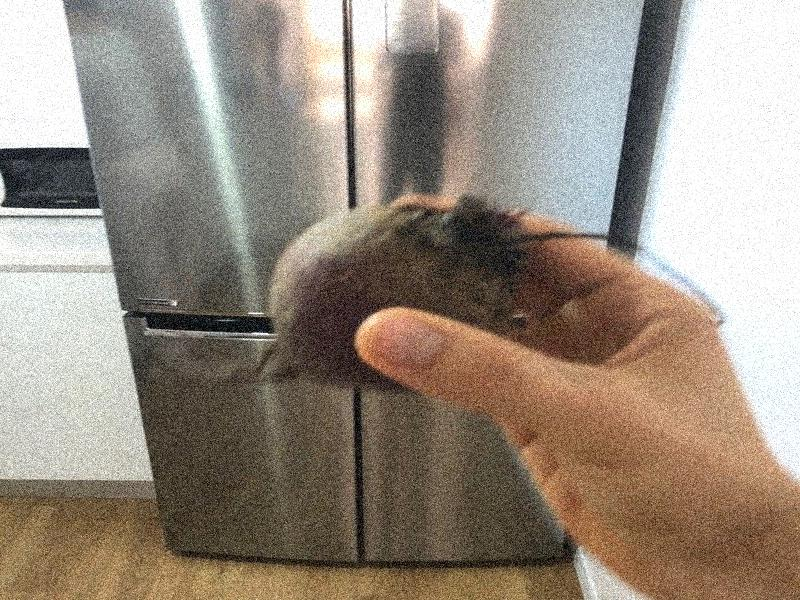Beet: (225, 195, 724, 391)
